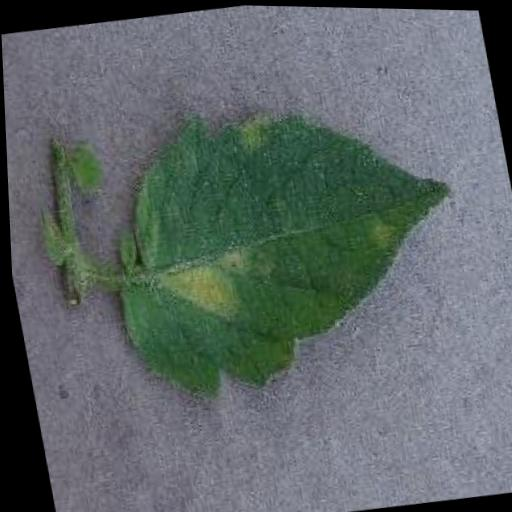Leaf Mold: (81, 73, 487, 409)
